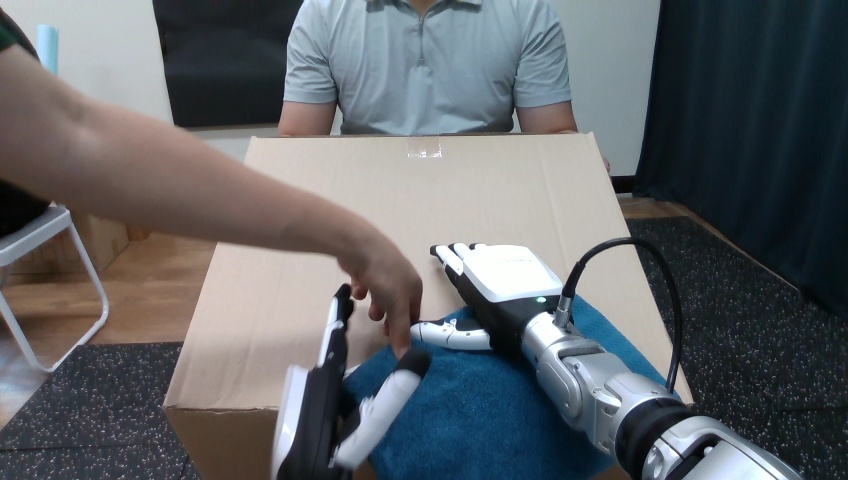left robot hand: (411, 237, 800, 479), (271, 284, 429, 479), (570, 244, 675, 389)
